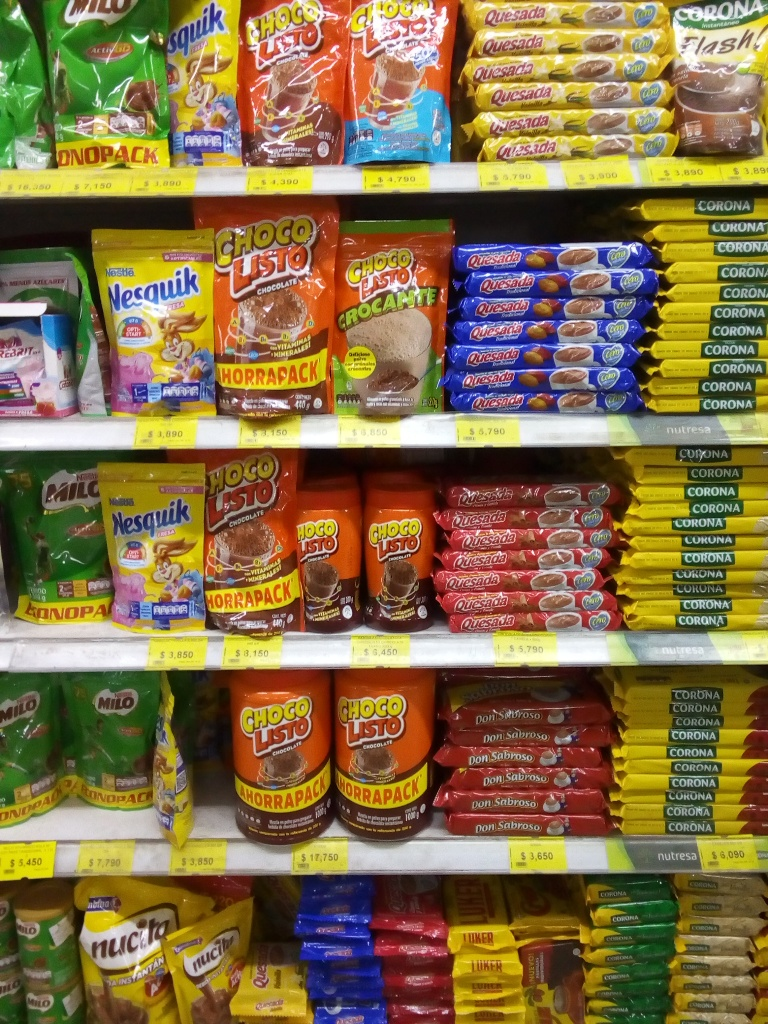COL0170102DYP25000: (337, 218, 460, 418)
COL0170103DYP44000: (165, 450, 300, 630)
COL0170103TRR00100: (237, 672, 337, 845)
COL0170103TRR30000: (302, 478, 371, 633)
COL0170104DYP20000: (347, 0, 461, 164)
COL0170203DYP50000: (6, 454, 121, 624)
COL0170203LAT20000: (8, 892, 76, 987)
COL0170303DYP20000: (154, 667, 199, 842)
COL0170305DYP20000: (94, 459, 208, 632)
